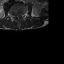CCS_stenosis: (17, 14, 19, 21)
LFS_severe_stenosis: (20, 13, 22, 18)
LLS_severe_stenosis: (19, 14, 20, 18)
RFS_severe_stenosis: (14, 14, 16, 18)
RLS_severe_stenosis: (16, 14, 17, 19)
